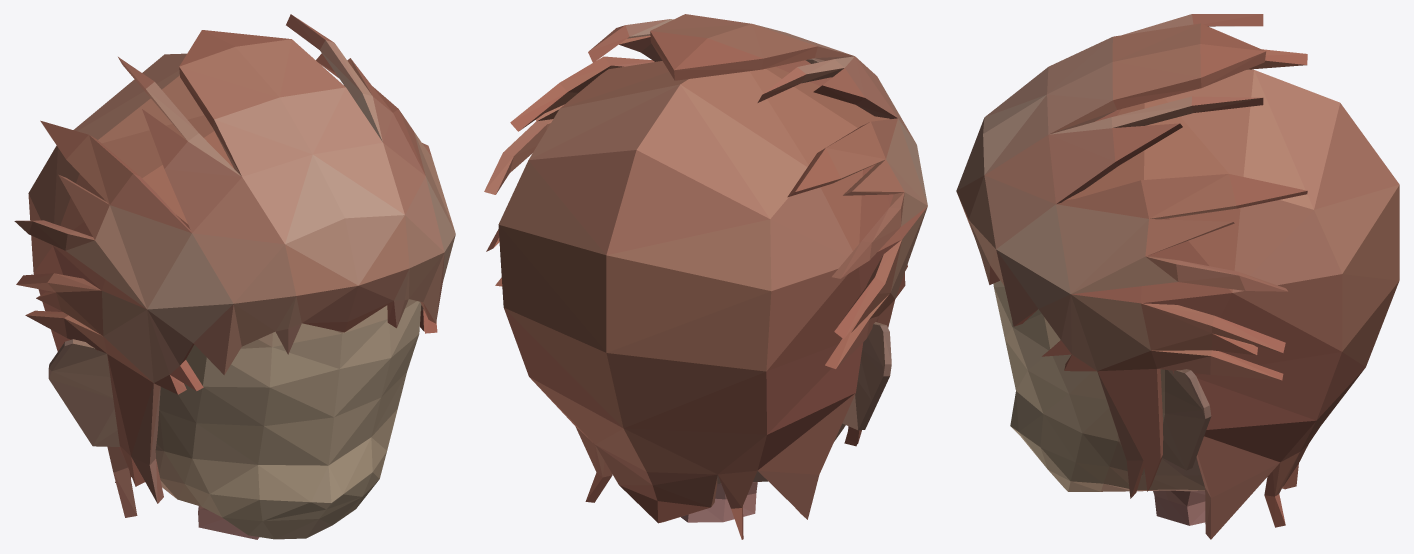
File: helm_lightskin_spike_blonde.fbx
The picture shows the model from 3 angles, left to right: view 1: azimuth 30°, elevation 25°; view 2: azimuth 150°, elevation 25°; view 3: azimuth 270°, elevation 25°; orthographic projection.
Visible parts, largest first — view 1: helm_lightskin_spike_blonde; view 2: helm_lightskin_spike_blonde; view 3: helm_lightskin_spike_blonde.
Boxes of the visible parts, x1,y1,x2,y2 form: helm_lightskin_spike_blonde: (14, 14, 455, 539); helm_lightskin_spike_blonde: (484, 14, 927, 539); helm_lightskin_spike_blonde: (956, 14, 1399, 539).
Bounding box in the file's own units: 1.13 × 1.39 × 1.18.
